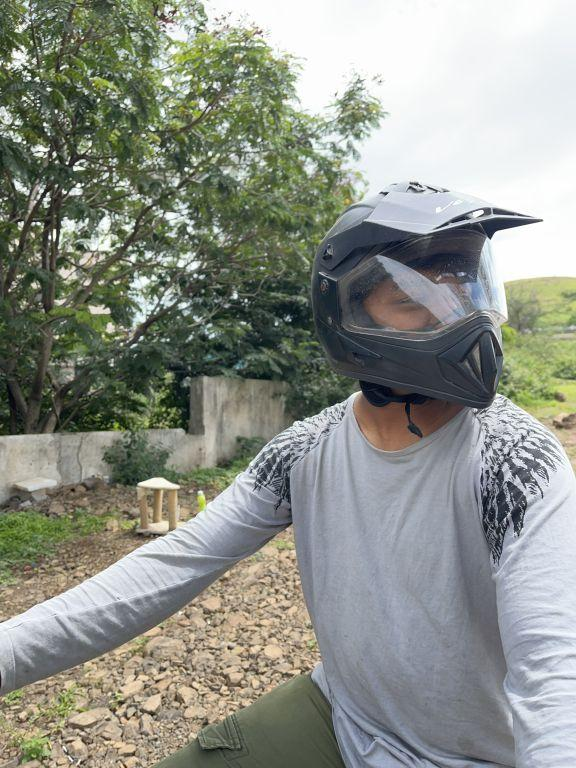helmet: (300, 167, 553, 426)
